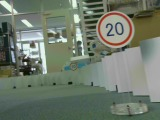speed_20: (94, 10, 136, 49)
